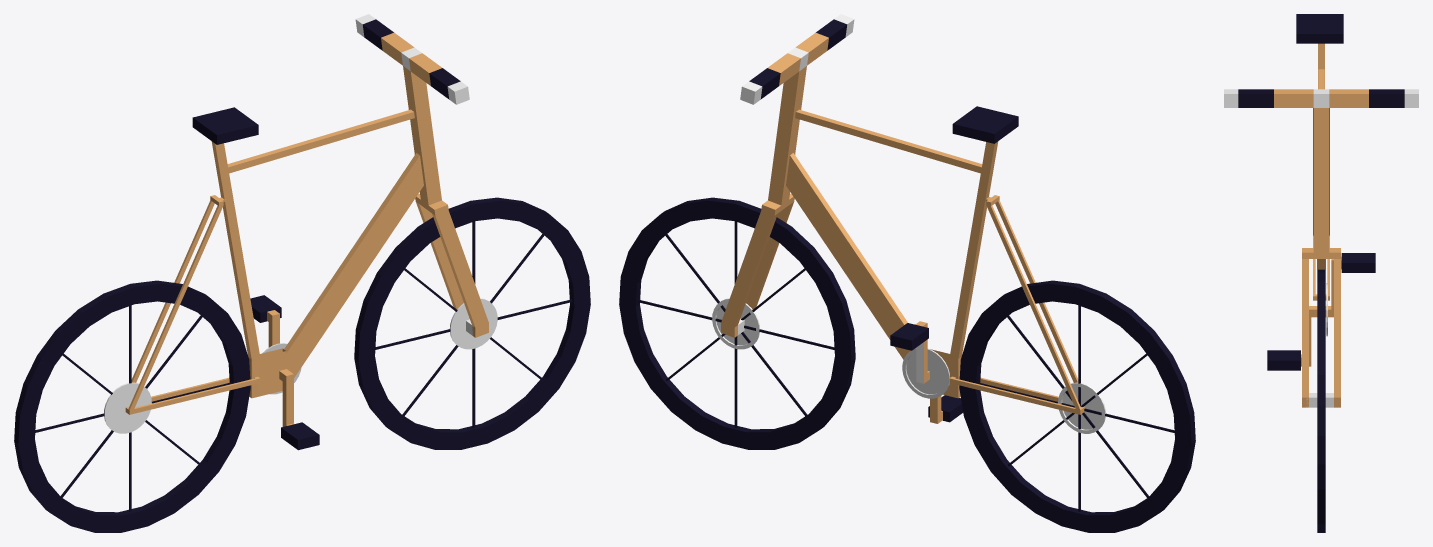
Rendered from Bike2.fbx.
3 renders of one model, left to right at view 1: azimuth 30°, elevation 25°; view 2: azimuth 150°, elevation 25°; view 3: azimuth 270°, elevation 25°, orthographic.
Visible parts, largest first — view 1: Cube.058, Cylinder, Cylinder.001, Cube.060, Cylinder.003, Cylinder.004, Cube.061, Cube.062; view 2: Cylinder.001, Cylinder, Cube.058, Cube.060, Cylinder.002, Cylinder.003, Cylinder.004, Cube.061, Cube.063; view 3: Cube.060, Cube.058, Cylinder, Cube.062, Cube.063, Cube.061.
Boxes of the visible parts, bbox=[...] form: Cube.058: bbox=[125, 107, 423, 414]; Cylinder: bbox=[354, 197, 590, 449]; Cylinder.001: bbox=[14, 280, 250, 532]; Cube.060: bbox=[355, 14, 488, 337]; Cylinder.003: bbox=[104, 382, 151, 433]; Cylinder.004: bbox=[449, 298, 497, 349]; Cube.061: bbox=[267, 310, 294, 426]; Cube.062: bbox=[281, 422, 319, 450]; Cylinder.001: bbox=[959, 280, 1195, 532]; Cylinder: bbox=[619, 197, 855, 449]; Cube.058: bbox=[786, 106, 1084, 414]; Cube.060: bbox=[721, 14, 854, 337]; Cylinder.002: bbox=[902, 348, 950, 398]; Cylinder.003: bbox=[1058, 382, 1105, 433]; Cylinder.004: bbox=[712, 298, 759, 349]; Cube.061: bbox=[915, 321, 942, 423]; Cube.063: bbox=[890, 323, 928, 350]; Cube.060: bbox=[1224, 89, 1418, 407]; Cube.058: bbox=[1296, 14, 1343, 300]; Cylinder: bbox=[1317, 269, 1325, 532]; Cube.062: bbox=[1267, 350, 1300, 370]; Cube.063: bbox=[1341, 253, 1375, 272]; Cube.061: bbox=[1301, 256, 1341, 366].
Size of the model in its own units: 1287 by 876 by 386.
